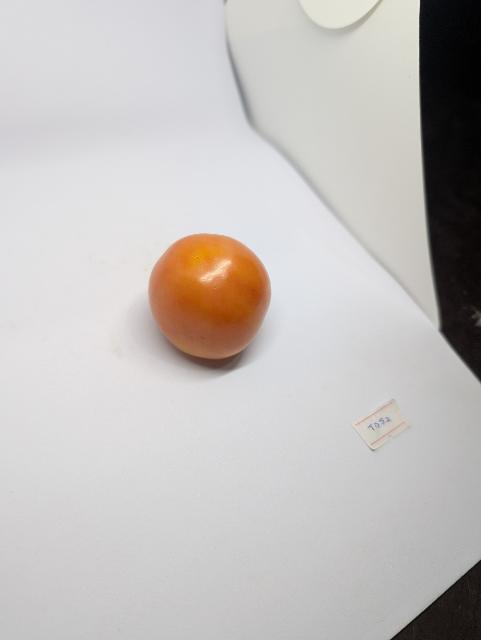turning: (138, 220, 285, 372)
